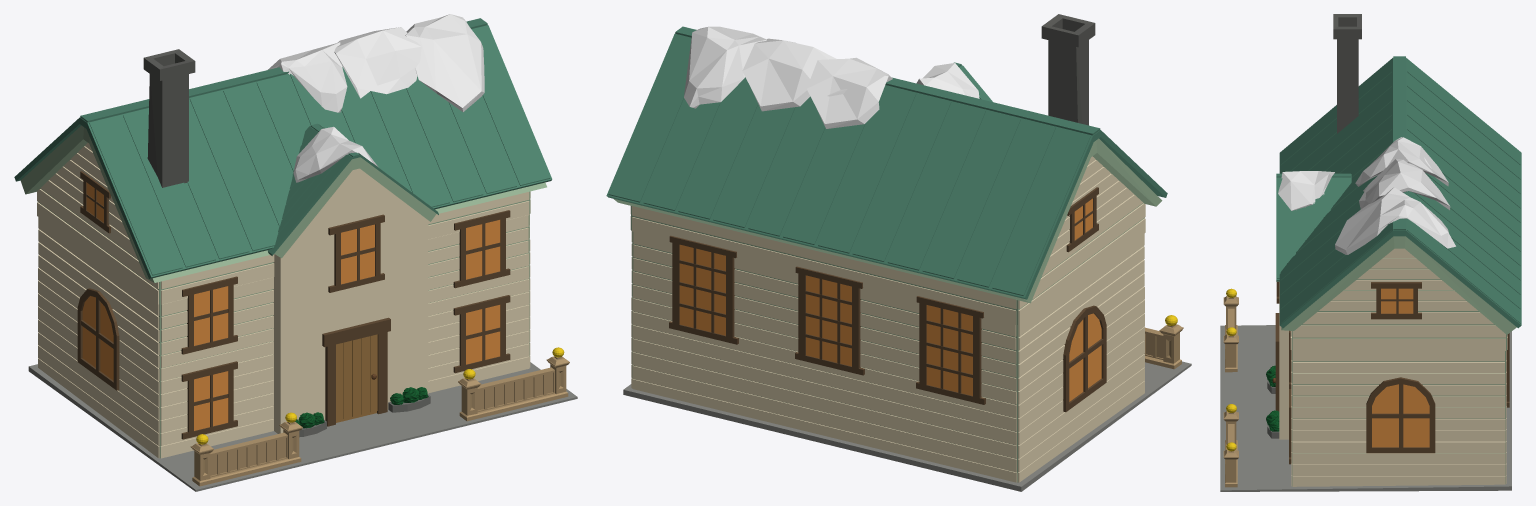
The model's file is FH_House4.fbx.
The picture shows the model from 3 angles, left to right: view 1: azimuth 30°, elevation 25°; view 2: azimuth 150°, elevation 25°; view 3: azimuth 270°, elevation 25°; orthographic projection. The views are drawn at different scales.
Visible parts, largest first — view 1: Cube.079; view 2: Cube.079; view 3: Cube.079.
Boxes of the visible parts, x1=… form: Cube.079: x1=14, y1=14, x2=577, y2=491; Cube.079: x1=606, y1=14, x2=1191, y2=491; Cube.079: x1=1220, y1=14, x2=1521, y2=491.
Size of the model in its own units: 4091 by 3586 by 3008.
